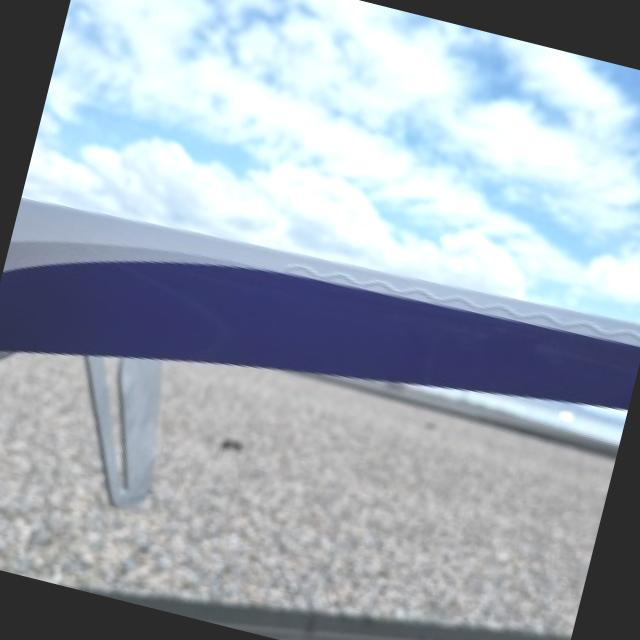healthy: (88, 358, 158, 500)
